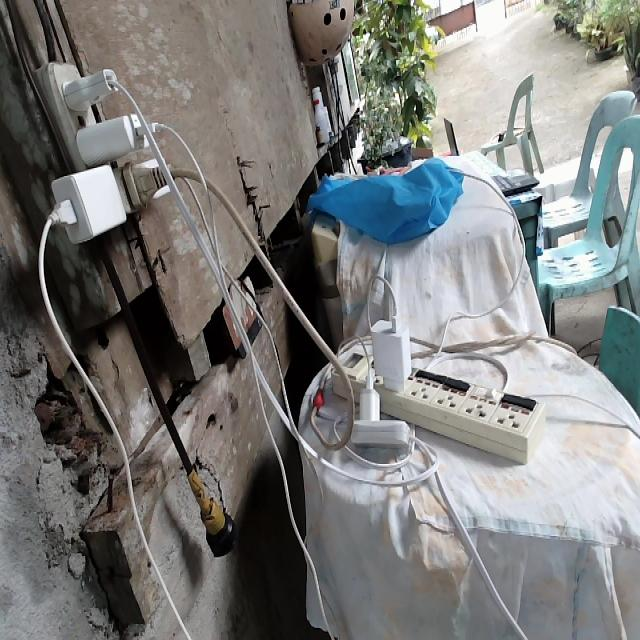-: (33, 58, 180, 246)
